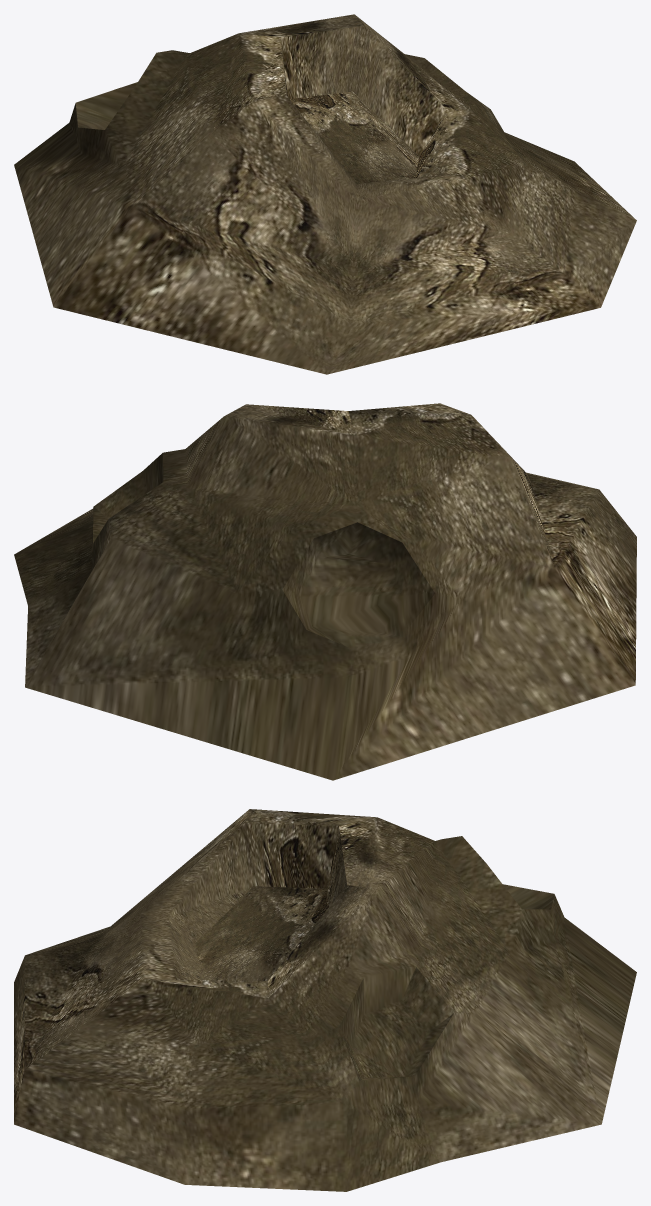
File: volcanomound.fbx
3 renders of one model, top to bottom at view 1: azimuth 30°, elevation 25°; view 2: azimuth 150°, elevation 25°; view 3: azimuth 270°, elevation 25°, orthographic. The views are drawn at different scales.
Visible parts, largest first — view 1: lod_high; view 2: lod_high; view 3: lod_high.
Part boxes in pixels (bbox=[...]): lod_high: bbox=[14, 14, 636, 374]; lod_high: bbox=[14, 403, 636, 780]; lod_high: bbox=[14, 809, 636, 1191].
Size of the model in its own units: 1469 by 517 by 1380.
1 material, 1 textured.
